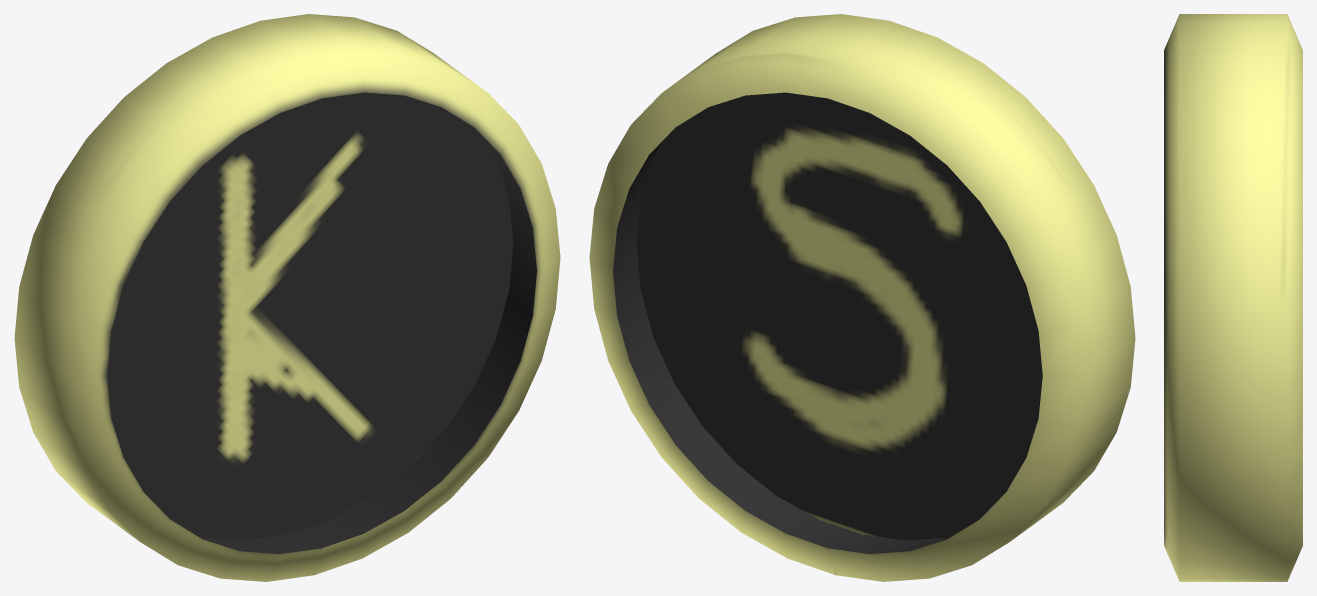
The model's file is Coin.fbx.
3 renders of one model, left to right at view 1: azimuth 30°, elevation 25°; view 2: azimuth 150°, elevation 25°; view 3: azimuth 270°, elevation 25°, orthographic.
Visible parts, largest first — view 1: Cylinder; view 2: Cylinder; view 3: Cylinder.
Boxes of the visible parts, box(x1,y1,x2,y2) form: Cylinder: box(14, 14, 560, 581); Cylinder: box(589, 14, 1135, 581); Cylinder: box(1164, 14, 1302, 581).
Size of the model in its own units: 16.68 by 16.68 by 4.07.
